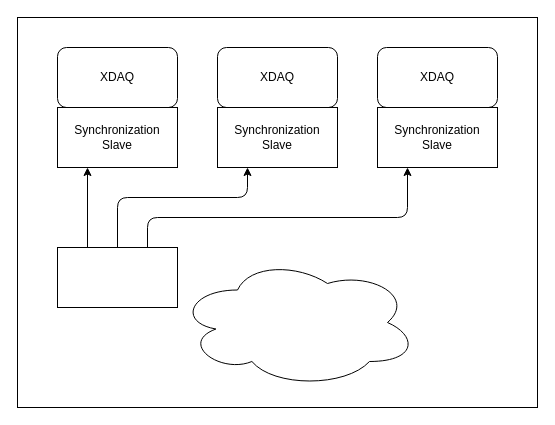
Some shapes in this 555 by 425 pixel diagram are drawn without their labels. The box of each missing label's shape, as (x1, y1, x2, y2) in pixels:
Generate Synchronization Clock and Control Signal: (176, 256, 418, 388)
Synchronization Master: (56, 246, 178, 308)
